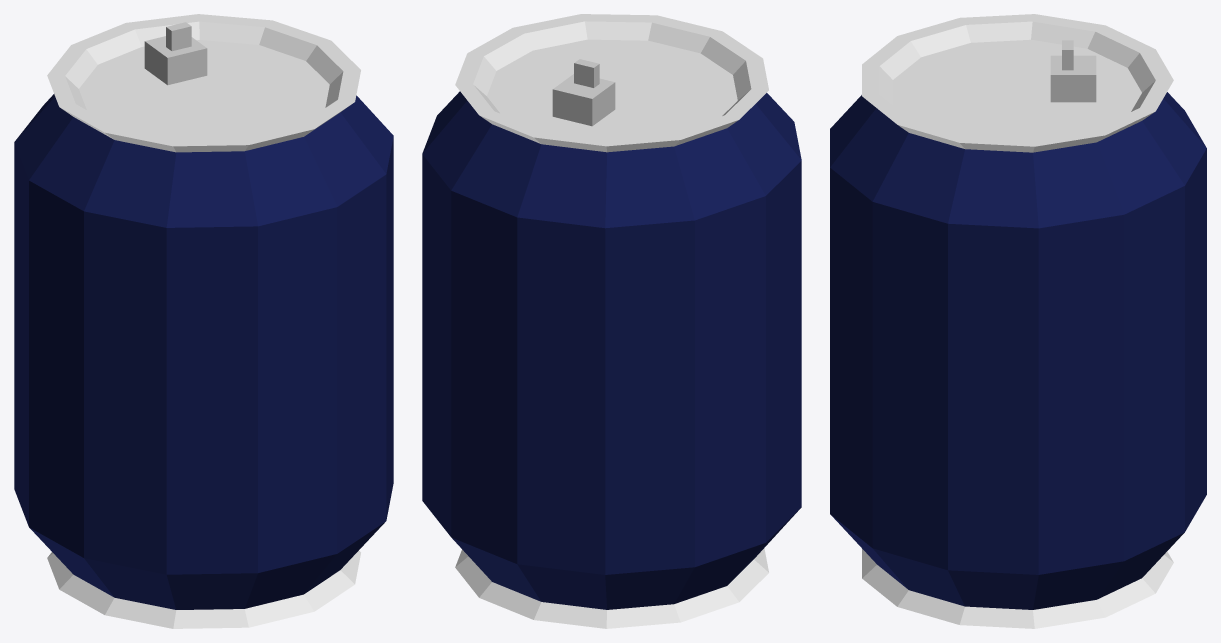
File: can_navy.glb
3 renders of one model, left to right at view 1: azimuth 30°, elevation 25°; view 2: azimuth 150°, elevation 25°; view 3: azimuth 270°, elevation 25°, orthographic.
Visible parts, largest first — view 1: Cylinder.001_Material.001_0, Cylinder.001_Material.002_0, Cylinder.001_Material.003_0; view 2: Cylinder.001_Material.001_0, Cylinder.001_Material.002_0, Cylinder.001_Material.003_0; view 3: Cylinder.001_Material.001_0, Cylinder.001_Material.002_0, Cylinder.001_Material.003_0.
Part boxes in pixels (x1,y1,x2,y2): Cylinder.001_Material.001_0: [14, 94, 393, 609]; Cylinder.001_Material.002_0: [47, 14, 360, 628]; Cylinder.001_Material.003_0: [144, 22, 207, 85]; Cylinder.001_Material.001_0: [422, 91, 801, 609]; Cylinder.001_Material.002_0: [455, 14, 768, 628]; Cylinder.001_Material.003_0: [552, 59, 615, 126]; Cylinder.001_Material.001_0: [830, 92, 1206, 609]; Cylinder.001_Material.002_0: [862, 14, 1173, 628]; Cylinder.001_Material.003_0: [1050, 40, 1096, 102].
Bounding box in the file's own units: 199 × 299 × 197.
